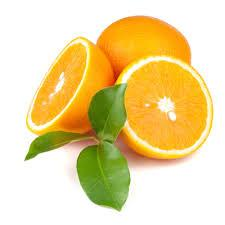orange: (95, 48, 220, 162), (12, 36, 114, 135), (93, 4, 182, 63)
